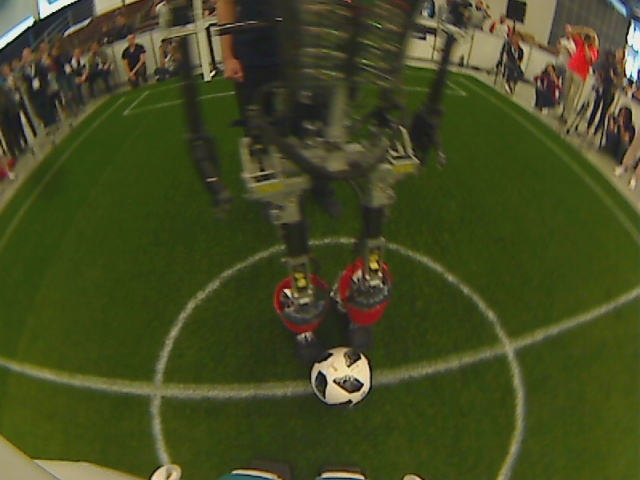ball: (306, 346, 375, 409)
